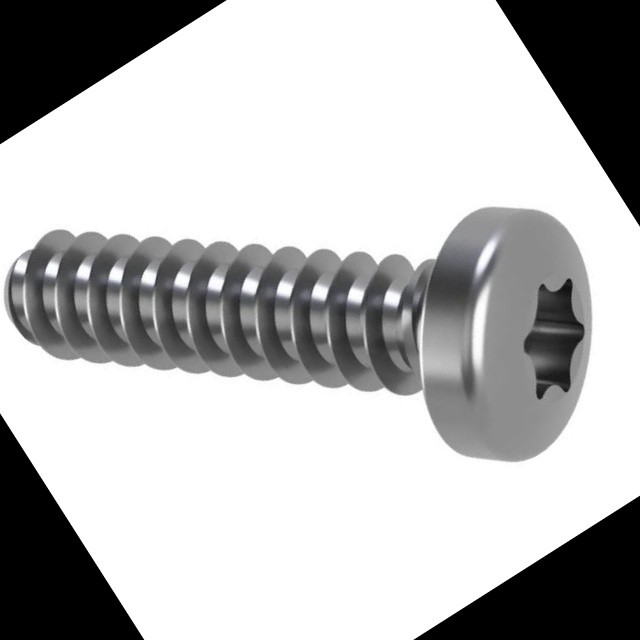torx: (345, 170, 640, 497)
